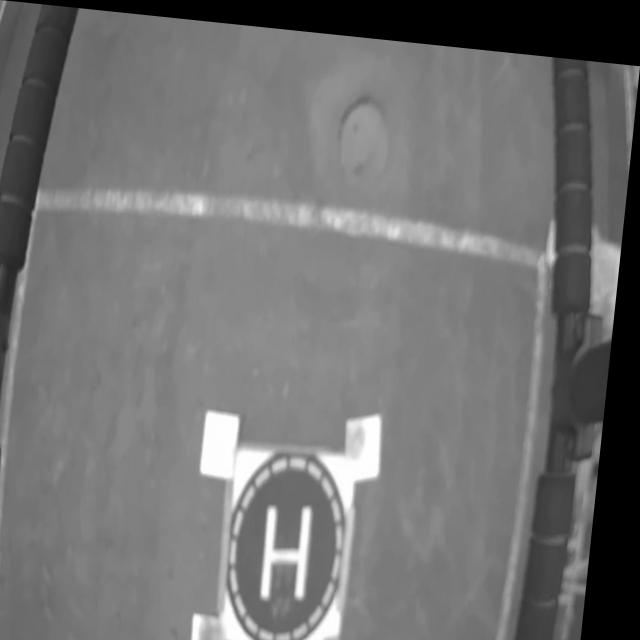Helipad: (271, 498, 324, 592)
